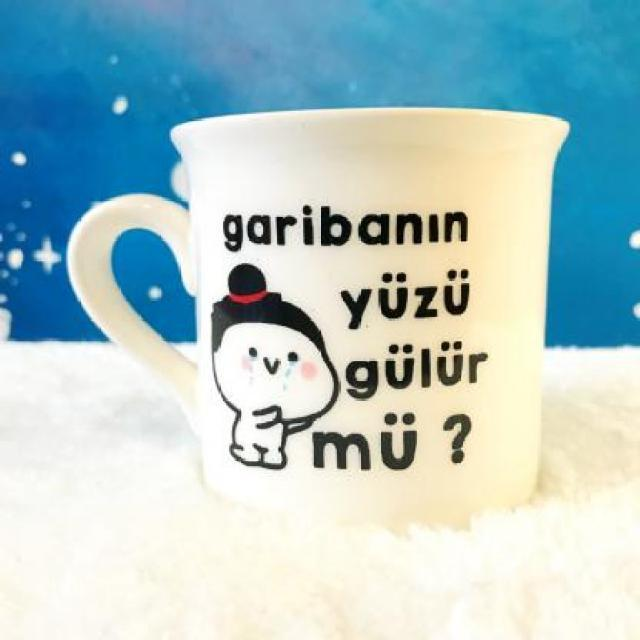taza: (28, 105, 562, 613)
